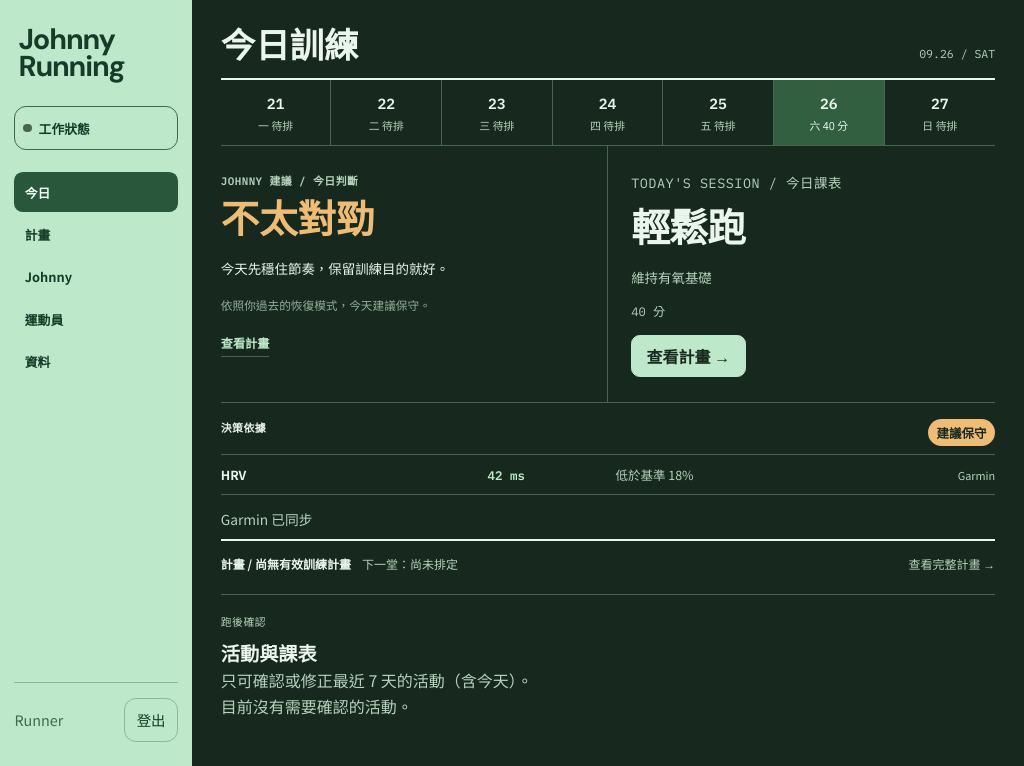
Test case: Johnny product shell › does not offer approval or open an empty Johnny queue when advice and proposals are absent
The image size is (1024, 766).
Click the button with test id "today-decision-action" at (245, 344), box [221,330,269,357]
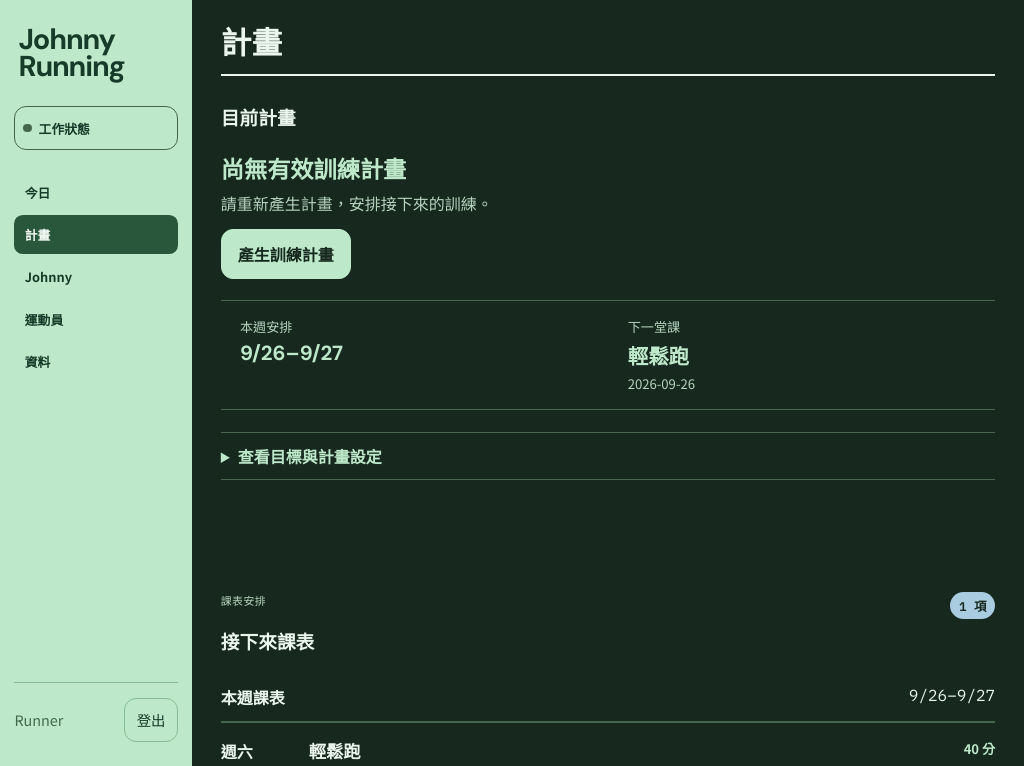
Check: the heading "計畫" is shown, box [221,24,282,64]
